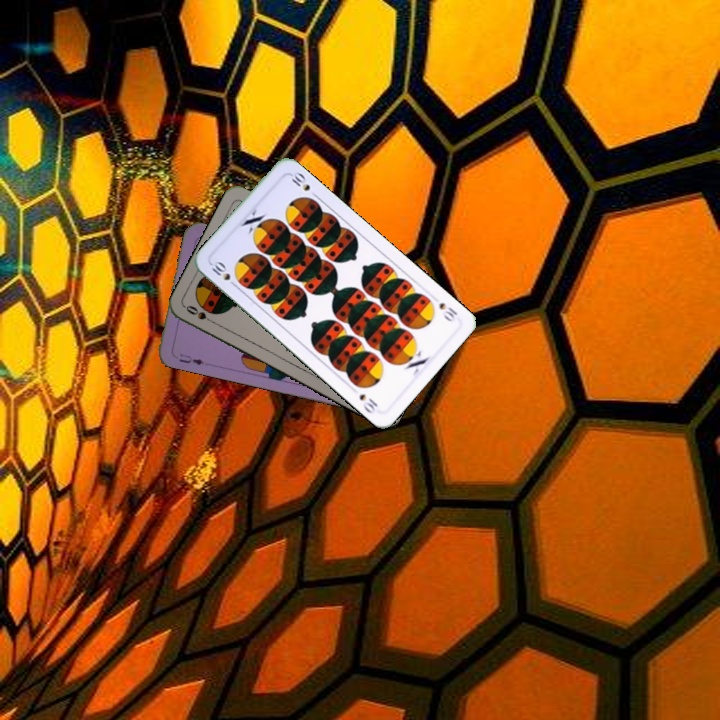EU: (175, 349, 206, 368)
S10: (207, 257, 240, 290), (435, 298, 460, 324)
SO: (182, 301, 219, 327)
